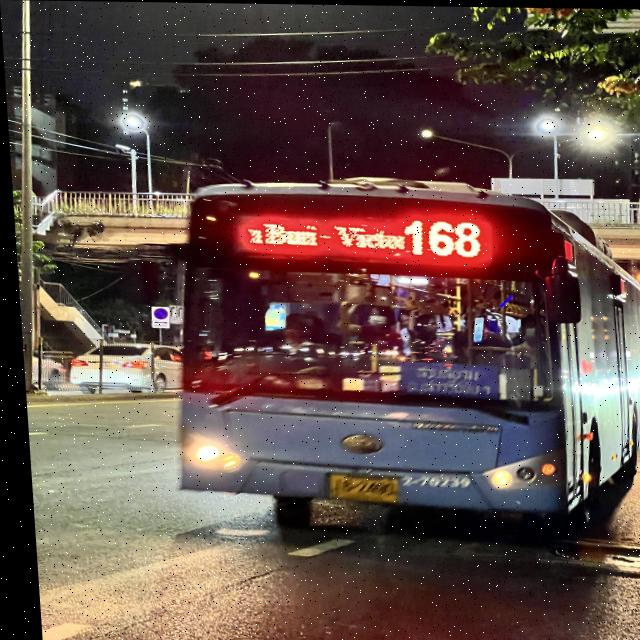BMTA-bus: (171, 181, 640, 532)
Bus Line Number: (399, 218, 480, 259)
Bus Side Number: (393, 470, 468, 487)
Destination Sign: (398, 360, 502, 399)
